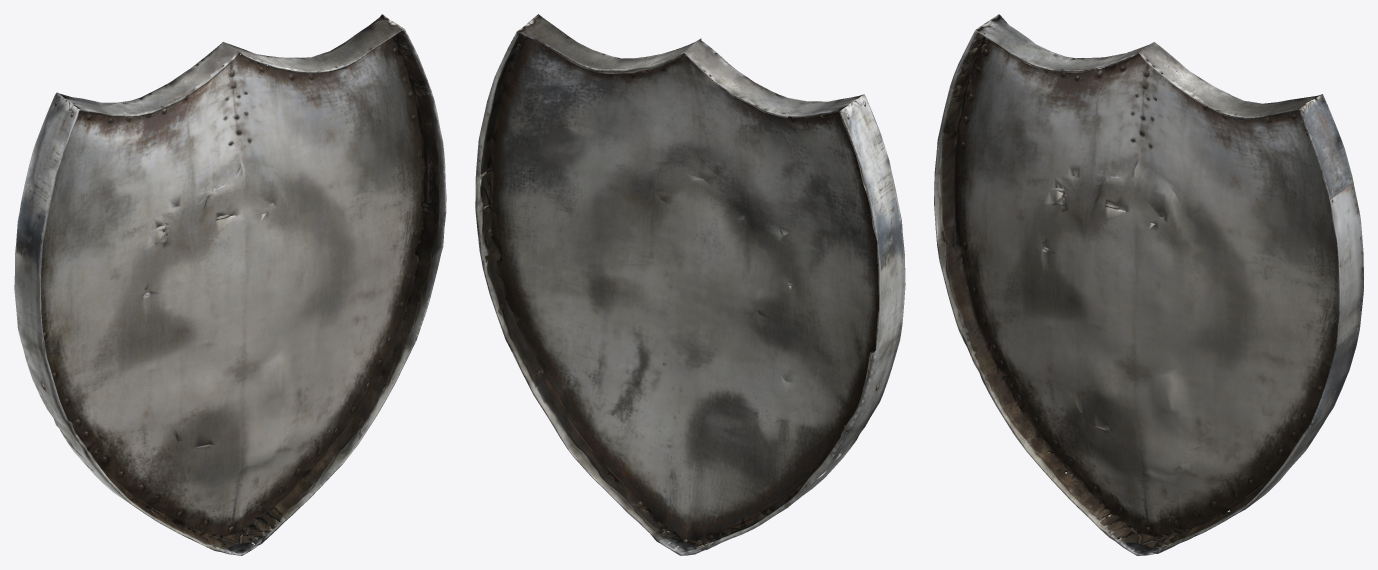
Rendered from hover4.glb.
3 renders of one model, left to right at view 1: azimuth 30°, elevation 25°; view 2: azimuth 150°, elevation 25°; view 3: azimuth 330°, elevation 25°, orthographic.
Bounding box in the file's own units: 1.69 × 1.99 × 0.2029.
1 material, 1 textured.
